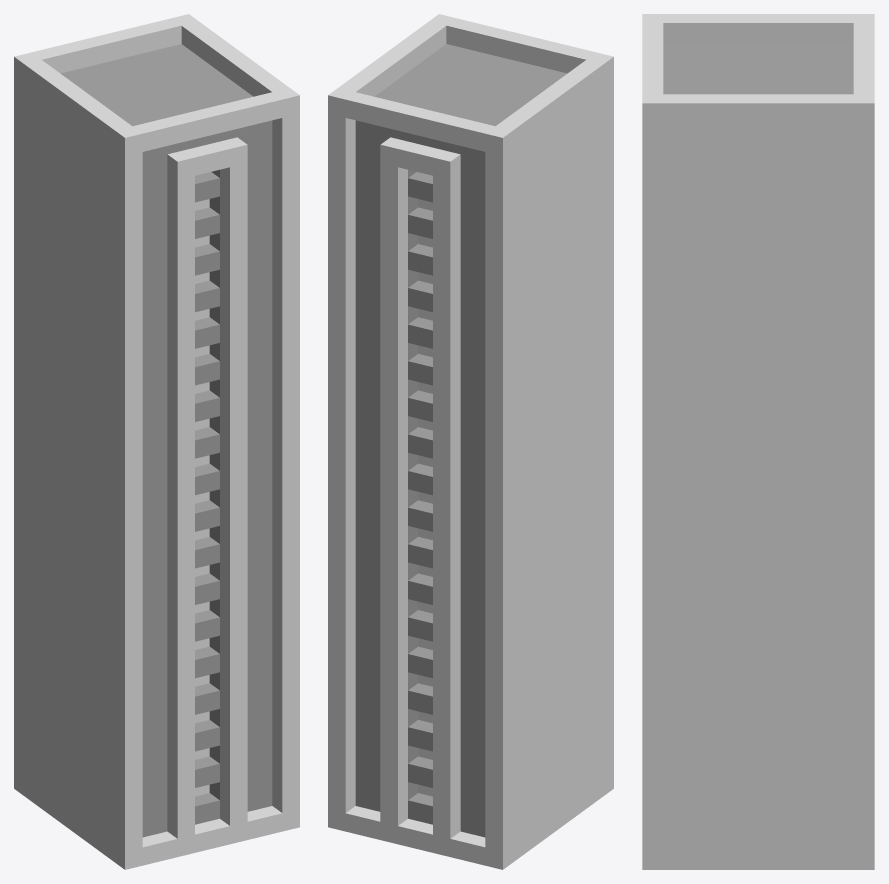
Rendered from Main Hall Connector.obj.
3 views of the same model, side by side, from view 1: azimuth 30°, elevation 25°; view 2: azimuth 150°, elevation 25°; view 3: azimuth 270°, elevation 25° (orthographic). The views are drawn at different scales.
Bounding box in the file's own units: 10 × 40 × 11.
Materials: 1 (1 with a texture image).
